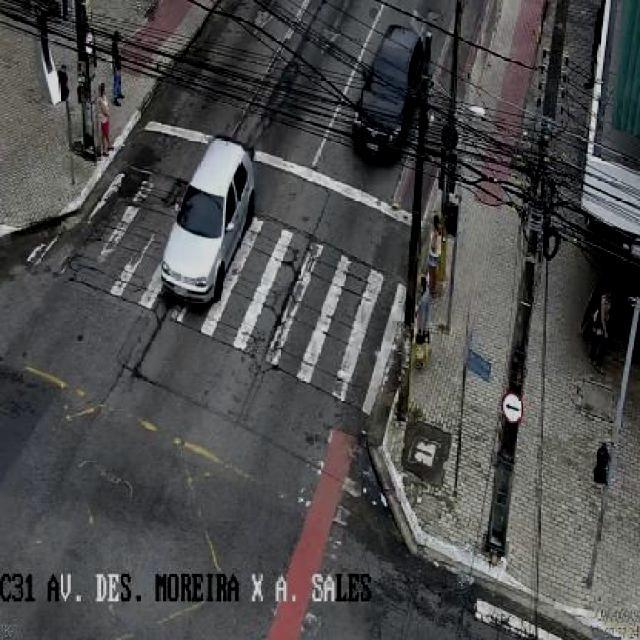Car: (161, 135, 256, 305), (351, 23, 424, 160)
